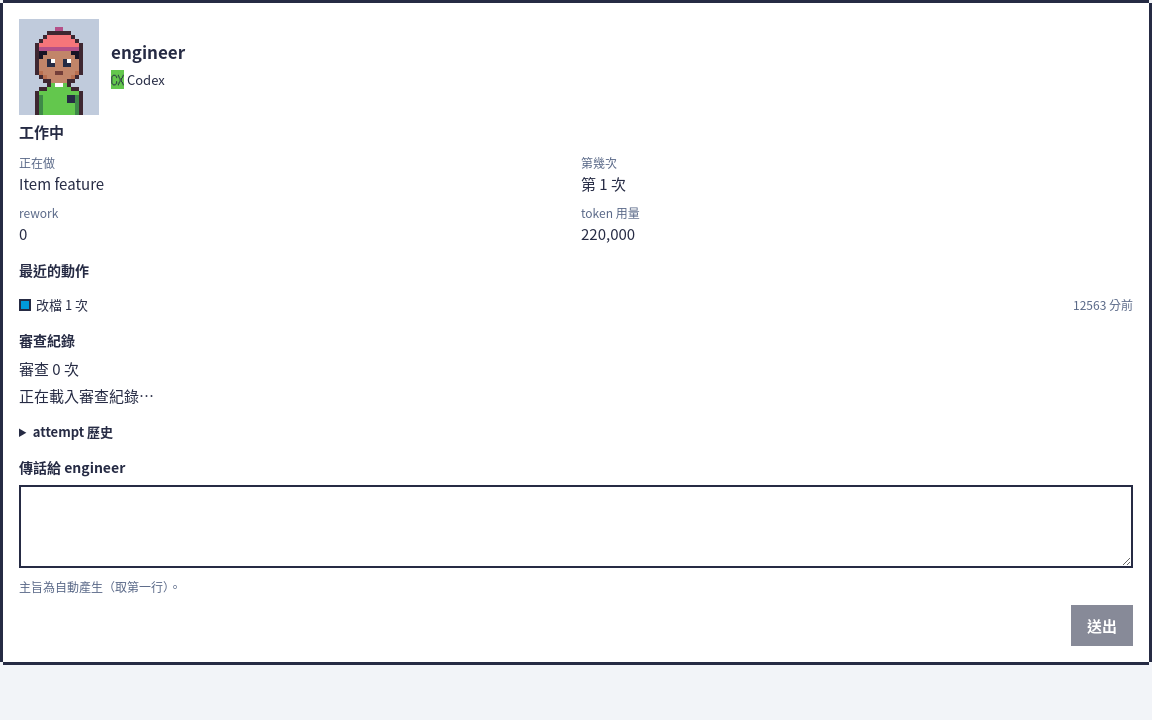
Test case: retains failed draft, does not automatically retry, and invalidates auth on 401
Later steps or results of the test are not shown.
Type "Please check" into the text box with test id "seat-message-body".
click(576, 526); type("Please check")  # box [19,485,1133,568]
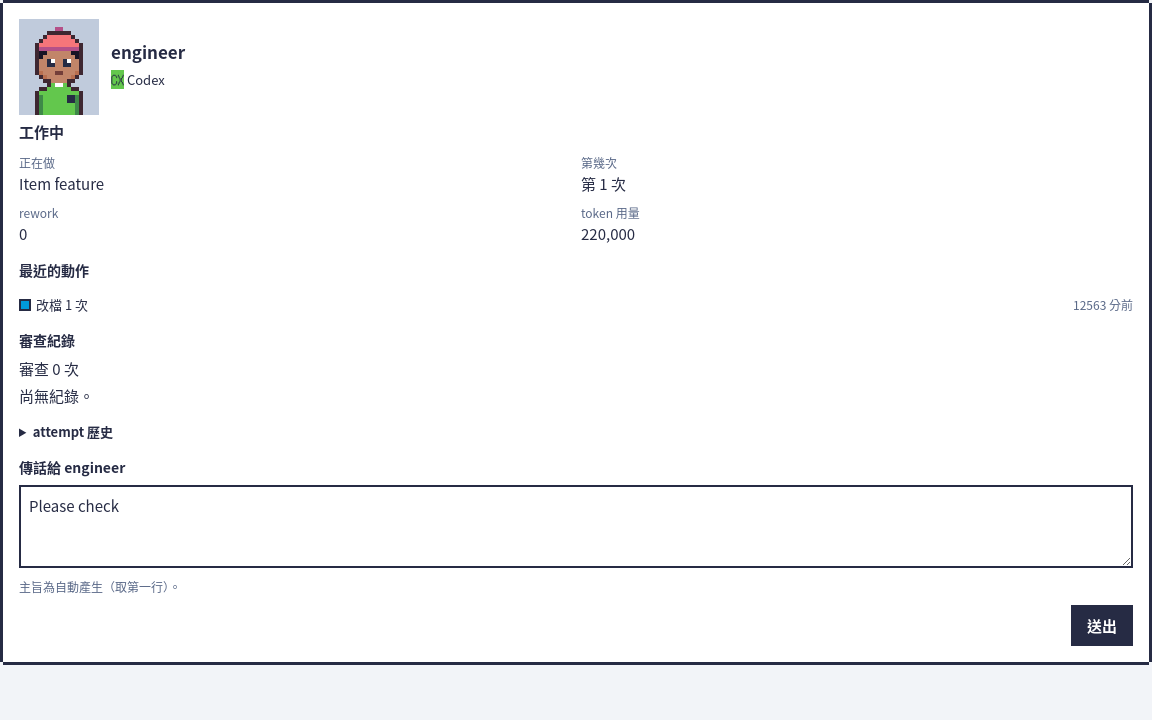
Click the button with test id "seat-message-send".
click(1102, 626)  # box [1071,605,1133,646]
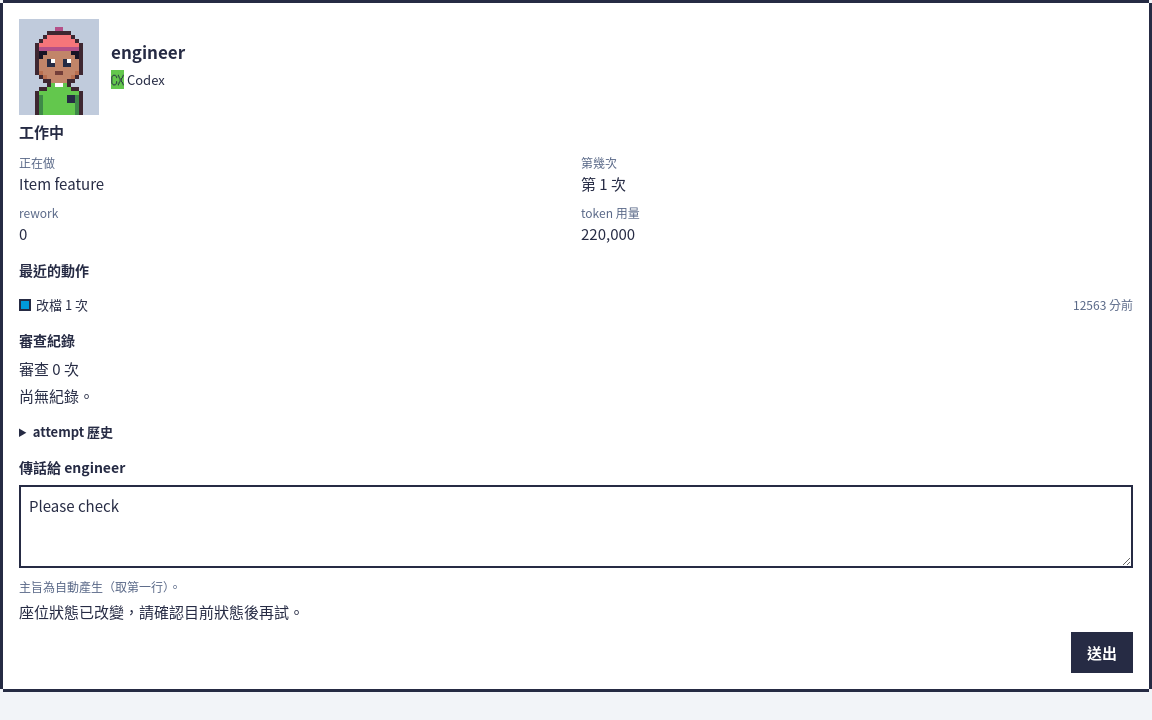
Now the message reads "座位狀態已改變，請確認目前狀態後再試。", box [19,601,304,622]
